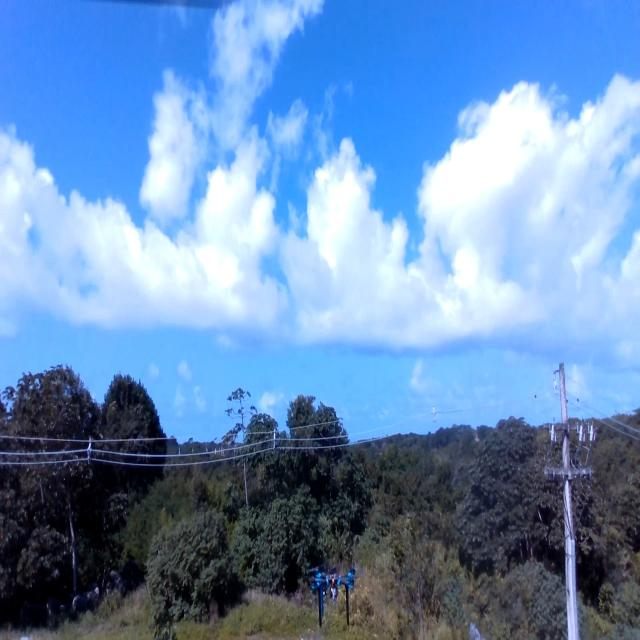-uav-: (299, 563, 378, 627)
